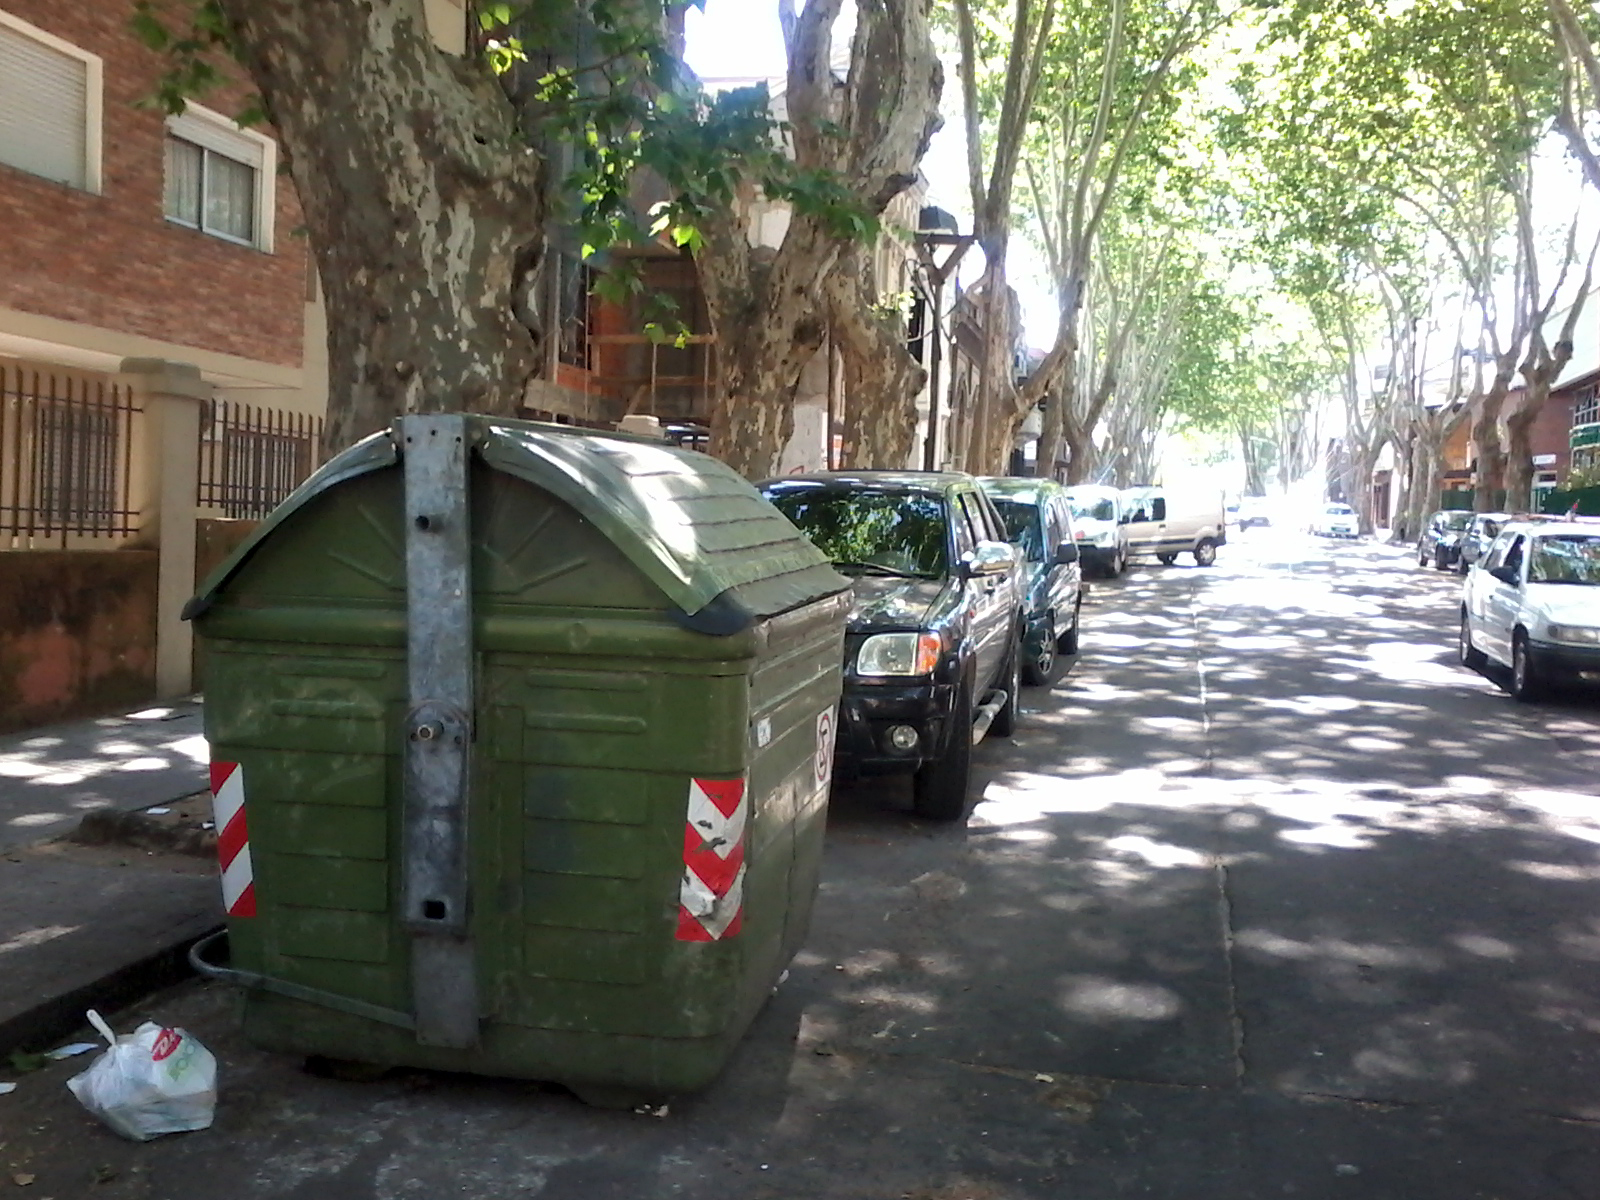container: (169, 405, 860, 1116)
